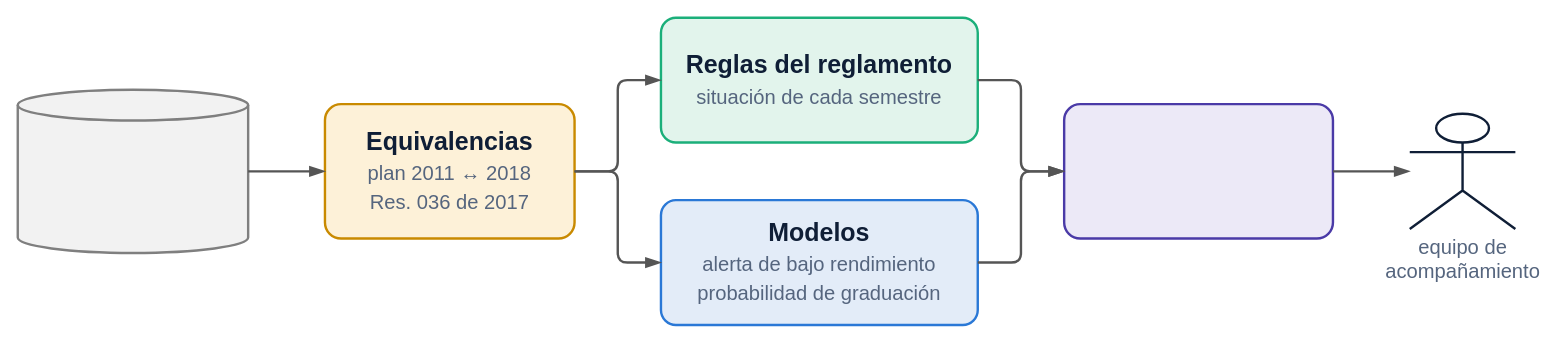
This 1556x343 diagram has some shape labels left out. Here are the shapes that lost their labels. From the top down, the centre of each, then its label:
At [132,171]: "Extracto SIIF notas + Saber 11 sin nombres".
At [1198,171]: "Pantallas cohorte, ficha, carga simulador".
